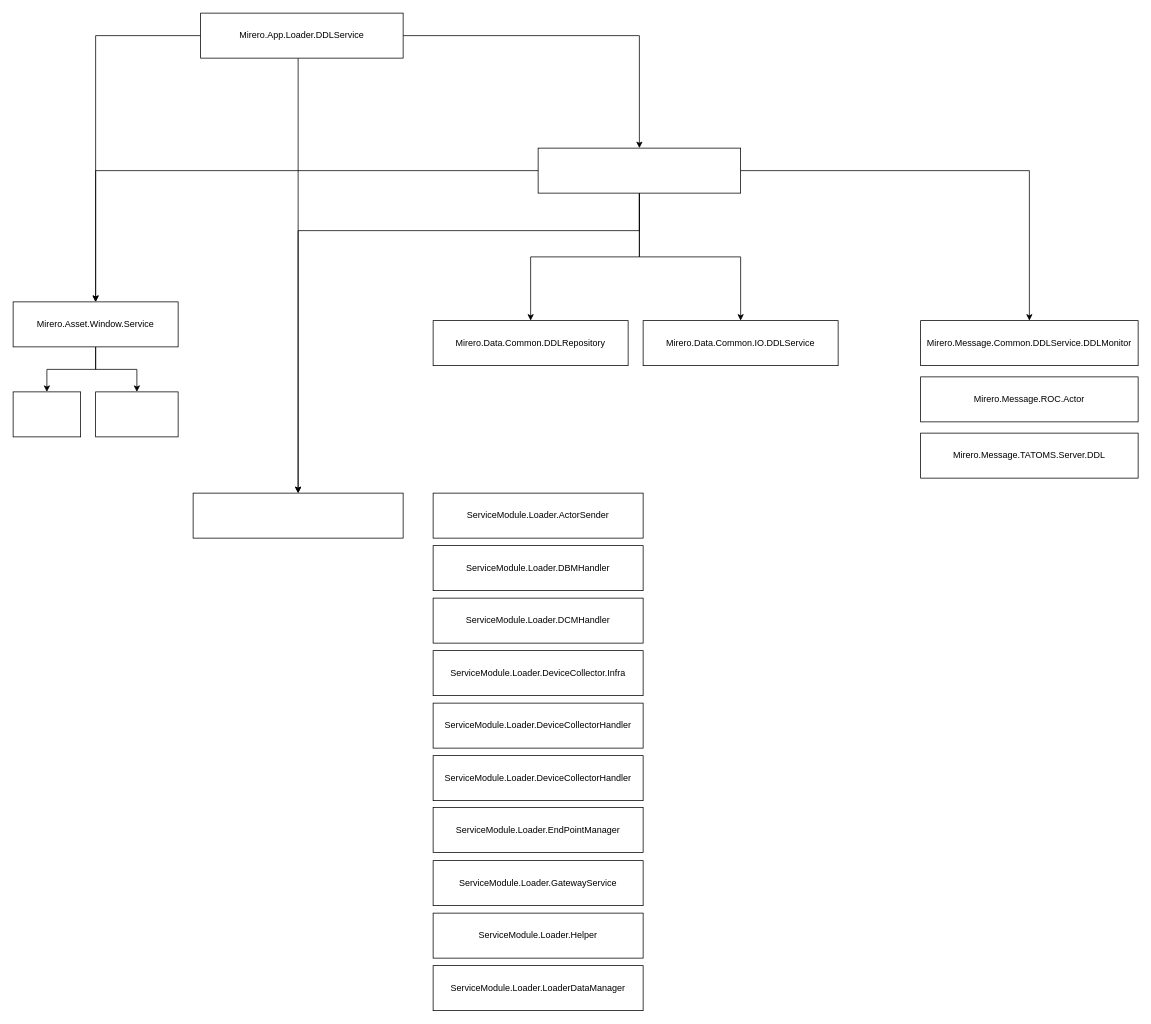
The diagram is 1151 pixels wide and 1024 high, and some of its shapes have lost their labels. The centre of each missing label's shape, as x and y in pixels:
"Mirero.ServiceModule.Loader.ConfigManager" goes at pixel 297 515.
"Mirero.ServiceModule.Loader.DDLService" goes at pixel 639 170.
"Topshelf" goes at pixel 46 414.
"Topshelf.NLog" goes at pixel 136 414.
